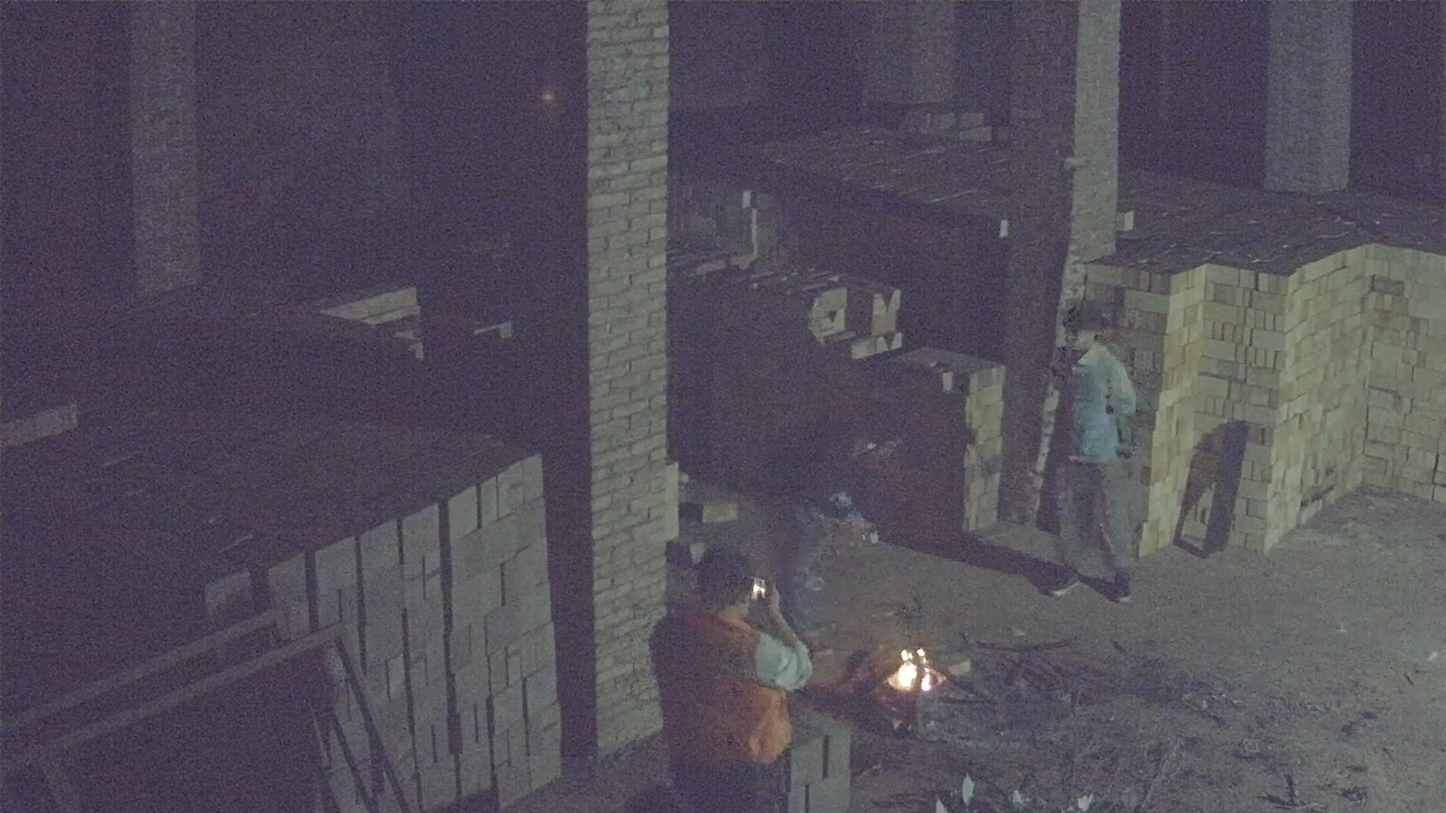fire: (886, 649, 944, 694)
